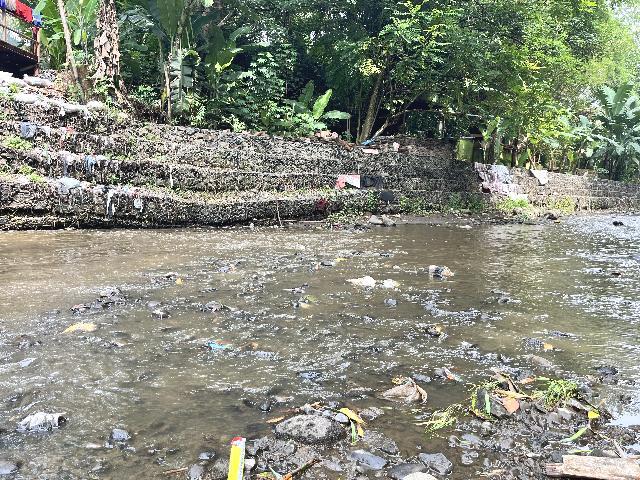Sampah Anorganik: (369, 376, 430, 405), (228, 435, 246, 480), (425, 263, 459, 282), (203, 338, 236, 353), (439, 363, 461, 383), (345, 276, 376, 287), (382, 278, 401, 291), (284, 287, 307, 296), (333, 256, 348, 265)
Sampah Organik: (467, 379, 640, 480), (265, 401, 367, 443), (413, 408, 473, 428), (62, 320, 100, 335), (61, 301, 86, 312), (432, 326, 448, 341), (242, 339, 258, 353), (164, 465, 188, 473), (543, 343, 558, 353), (211, 302, 226, 312), (173, 274, 184, 286), (295, 302, 307, 311), (228, 264, 240, 271), (306, 296, 317, 302), (314, 263, 321, 272)
